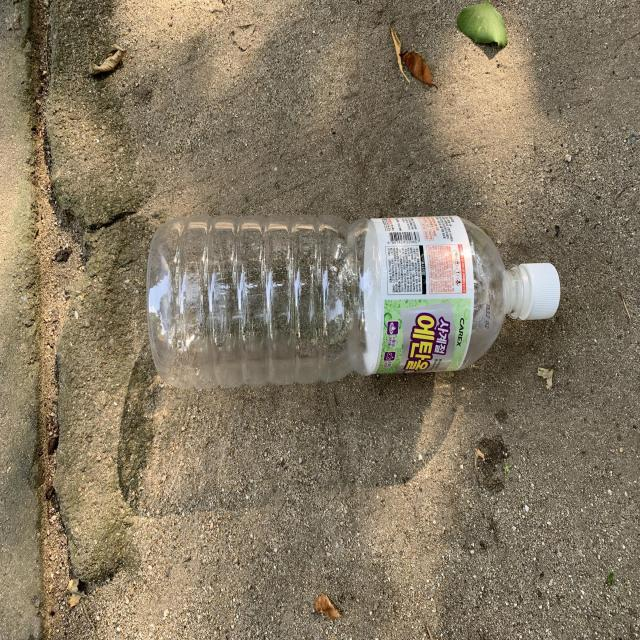plastic: (146, 215, 562, 388)
